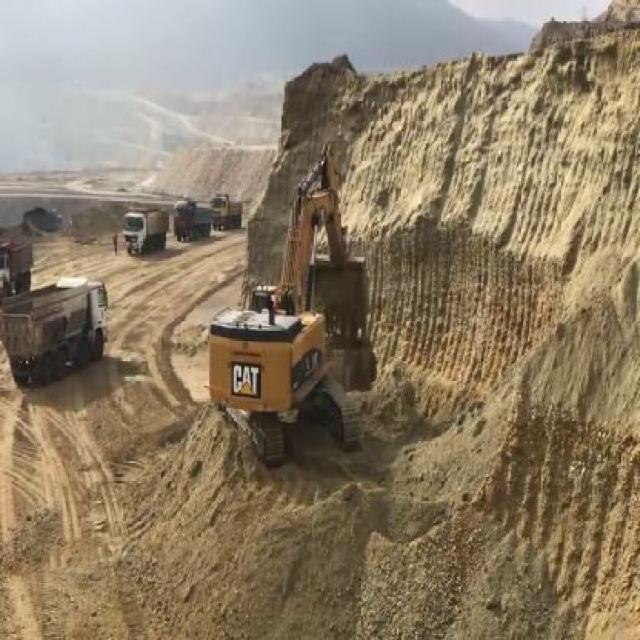dump_truck: (0, 272, 111, 388), (122, 202, 169, 258), (0, 240, 37, 300), (173, 195, 209, 240), (209, 190, 245, 232)
excavator: (211, 144, 377, 465)
